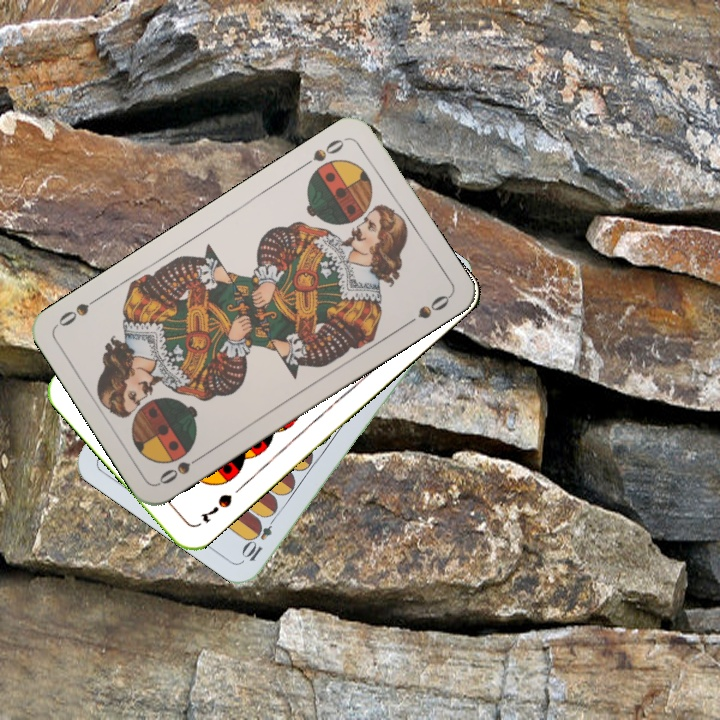E10: (239, 509, 280, 564)
S7: (196, 490, 235, 527)
SO: (154, 449, 208, 487), (297, 133, 350, 171)
